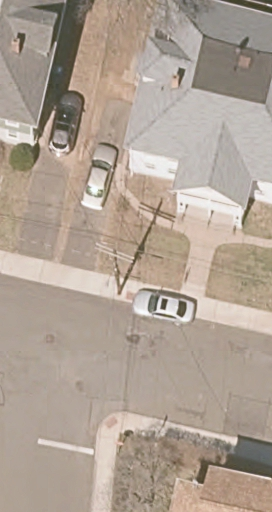DT: (93, 241, 135, 296)
